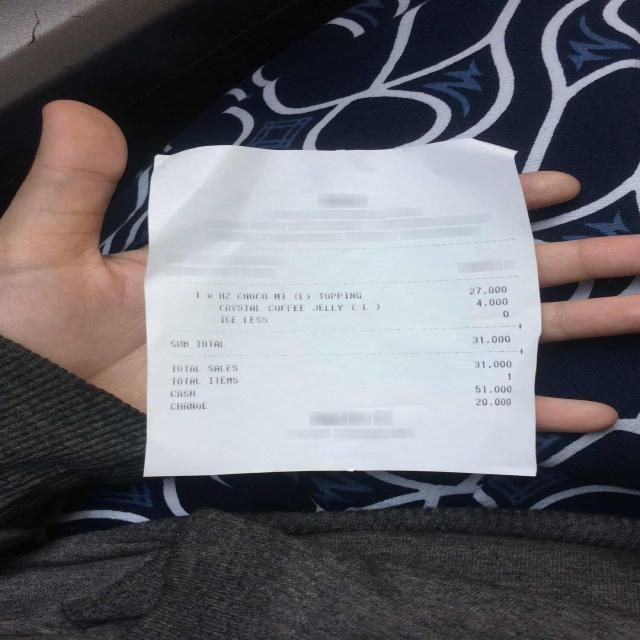kertas: (144, 139, 540, 476)
